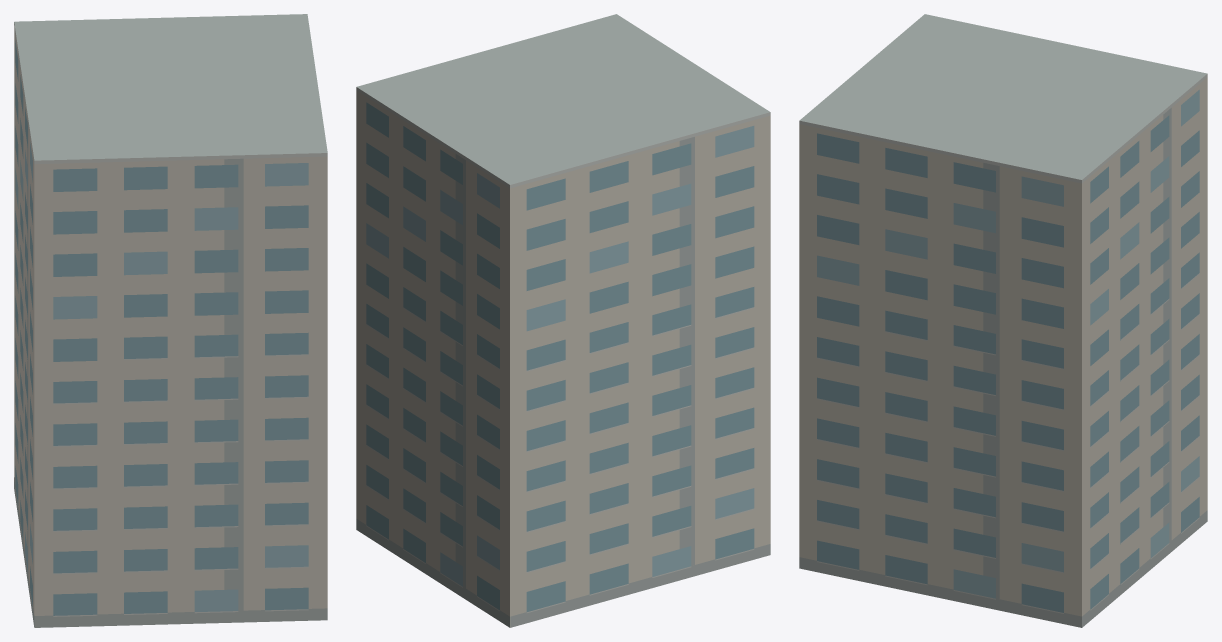
The model's file is residential-eeecf501-4eec-4800-8e3e-a5bf2495b2ac.glb.
The picture shows the model from 3 angles, left to right: view 1: azimuth 30°, elevation 25°; view 2: azimuth 150°, elevation 25°; view 3: azimuth 270°, elevation 25°; orthographic projection. The views are drawn at different scales.
Visible parts, largest first — view 1: residential-eeecf501-4eec-4800-8e3e-a5bf2495b2ac.tmp; view 2: residential-eeecf501-4eec-4800-8e3e-a5bf2495b2ac.tmp; view 3: residential-eeecf501-4eec-4800-8e3e-a5bf2495b2ac.tmp.
Boxes of the visible parts, x1,y1,x2,y2 form: residential-eeecf501-4eec-4800-8e3e-a5bf2495b2ac.tmp: (14,14,327,627); residential-eeecf501-4eec-4800-8e3e-a5bf2495b2ac.tmp: (356,14,770,627); residential-eeecf501-4eec-4800-8e3e-a5bf2495b2ac.tmp: (799,14,1207,627).
Bounding box in the file's own units: 25.46 × 32 × 26.45.
